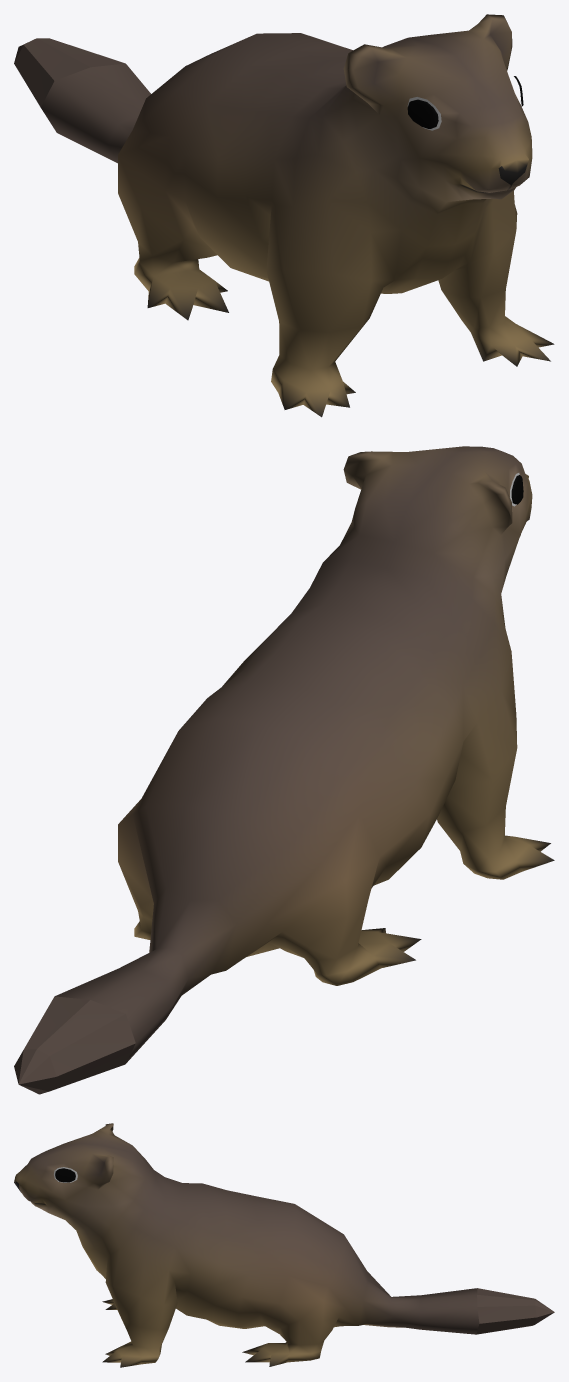
File: kit-marmot.glb
3 renders of one model, top to bottom at view 1: azimuth 30°, elevation 25°; view 2: azimuth 150°, elevation 25°; view 3: azimuth 270°, elevation 25°, orthographic. The views are drawn at different scales.
Visible parts, largest first — view 1: base; view 2: base; view 3: base.
Part boxes in pixels (<box>): base: <box>14,14,554,417</box>; base: <box>14,446,554,1094</box>; base: <box>14,1123,554,1367</box>.
Size of the model in its own units: 0.3537 by 0.4409 by 1.13.
